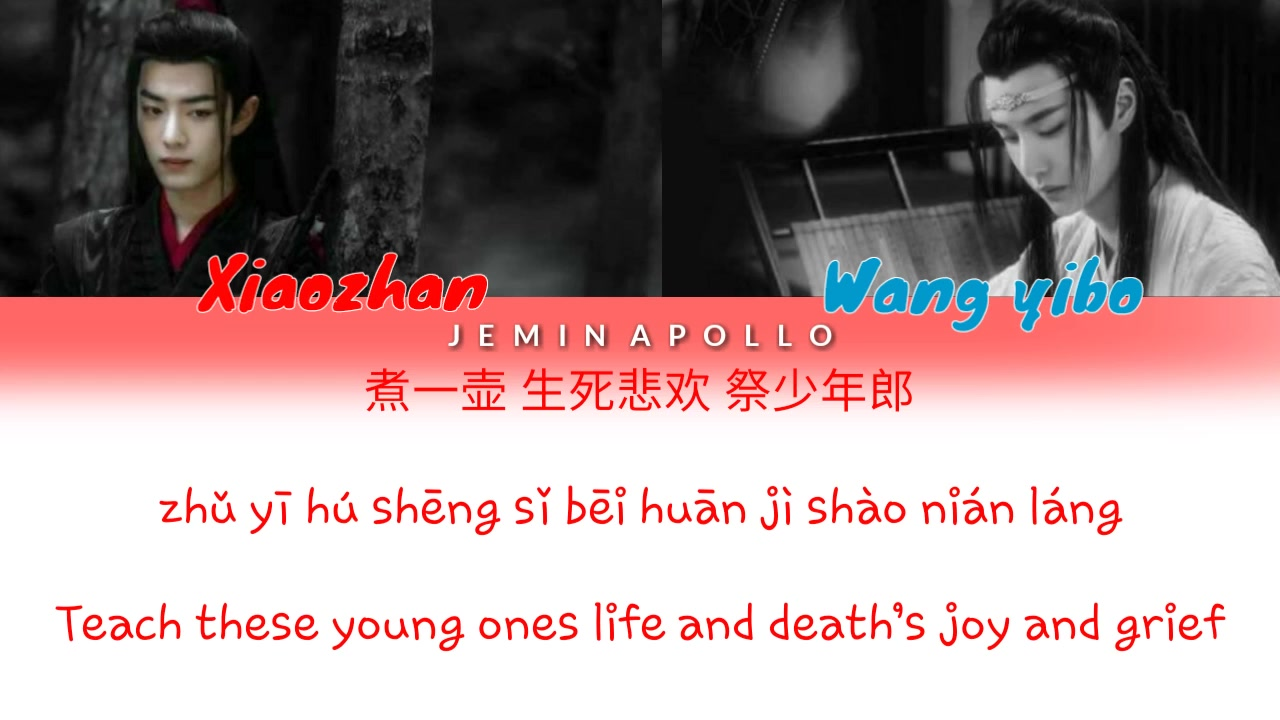text-label: (48, 597, 1234, 656)
